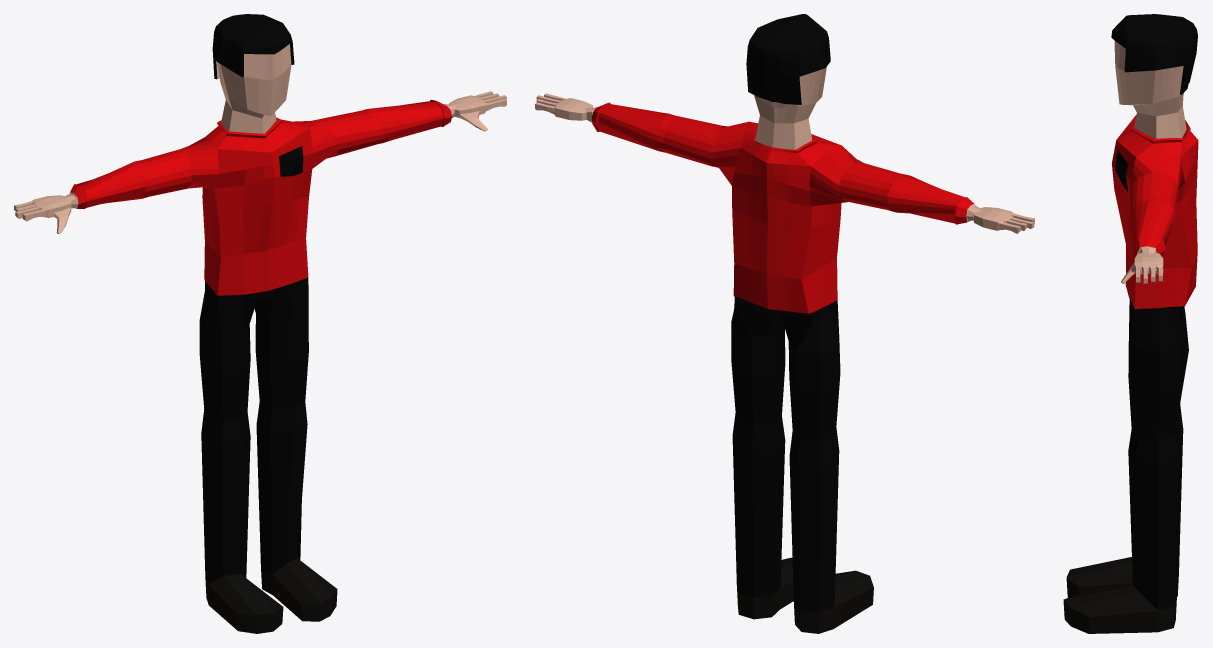
The model's file is npc1BD.fbx.
3 views of the same model, side by side, from view 1: azimuth 30°, elevation 25°; view 2: azimuth 150°, elevation 25°; view 3: azimuth 270°, elevation 25° (orthographic). The views are drawn at different scales.
Visible parts, largest first — view 1: Cube.001; view 2: Cube.001; view 3: Cube.001.
Boxes of the visible parts, left/top/right/bottom form: Cube.001: left=14, top=14, right=506, bottom=633; Cube.001: left=535, top=14, right=1034, bottom=633; Cube.001: left=1063, top=14, right=1198, bottom=633.
Size of the model in its own units: 230 by 261 by 54.11.
